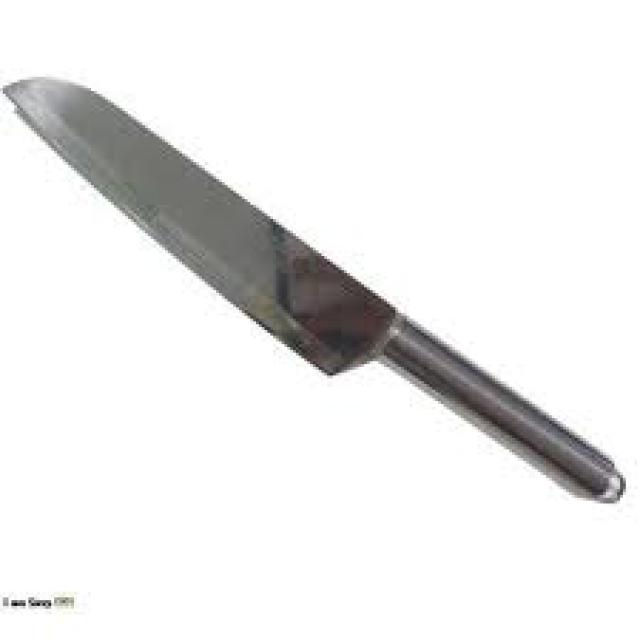Knife: (3, 77, 626, 498)
